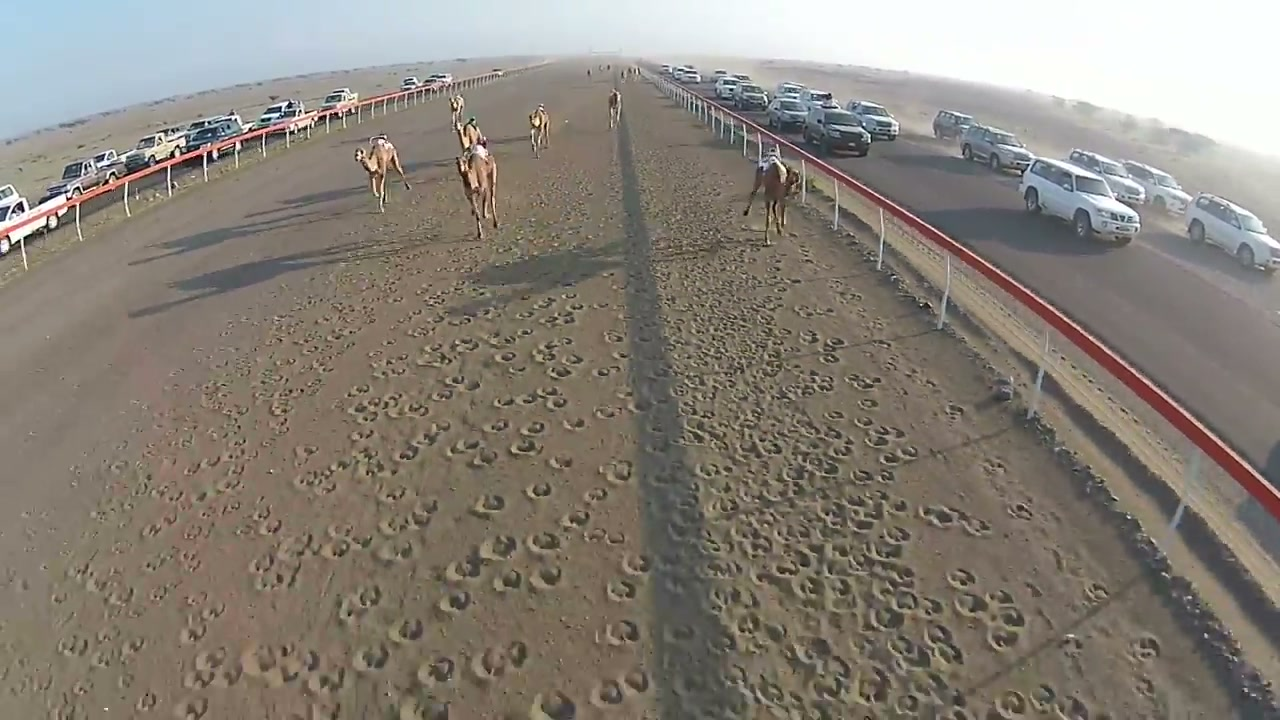animal_footprint: (3, 95, 1231, 719), (652, 243, 1146, 716), (664, 287, 1024, 666), (392, 296, 650, 636), (331, 356, 646, 634), (50, 531, 239, 711), (820, 525, 964, 668), (49, 548, 198, 616), (958, 683, 1119, 719), (248, 535, 319, 592), (238, 643, 323, 687), (483, 417, 564, 457), (468, 640, 530, 683), (183, 439, 253, 476), (183, 647, 243, 690), (589, 667, 651, 708), (984, 593, 1027, 652), (277, 680, 342, 719), (293, 457, 356, 496), (194, 465, 243, 515), (919, 505, 992, 537), (915, 622, 964, 667), (316, 525, 373, 560), (852, 662, 894, 709), (336, 584, 382, 626), (391, 688, 452, 719), (347, 393, 404, 425), (446, 437, 500, 469), (528, 690, 577, 719), (415, 655, 458, 688), (374, 537, 420, 567), (887, 688, 936, 716), (351, 641, 391, 675), (1053, 693, 1109, 717), (409, 419, 452, 448), (663, 508, 698, 542), (599, 619, 643, 646), (477, 533, 519, 561), (88, 636, 123, 669), (436, 589, 474, 619), (139, 510, 178, 539), (387, 617, 427, 645), (445, 556, 483, 585), (741, 433, 783, 459), (527, 563, 564, 592), (919, 505, 963, 528), (616, 389, 658, 413), (406, 497, 438, 528), (471, 493, 507, 519), (591, 679, 624, 707), (526, 531, 564, 555), (865, 426, 906, 448), (388, 398, 430, 419), (1027, 683, 1057, 712), (375, 483, 411, 507), (582, 527, 627, 546), (492, 568, 527, 592), (445, 436, 487, 456), (1129, 635, 1160, 662), (172, 696, 208, 719), (693, 462, 734, 482), (879, 446, 917, 467), (600, 460, 632, 484), (821, 337, 849, 364), (178, 618, 207, 644), (849, 468, 896, 484), (945, 567, 976, 591), (844, 373, 883, 392), (559, 509, 591, 532), (621, 553, 653, 576), (606, 579, 638, 602), (56, 634, 89, 656), (508, 437, 543, 456), (442, 375, 481, 392), (119, 635, 146, 659), (791, 304, 833, 318), (1084, 581, 1110, 603), (519, 420, 548, 439), (257, 515, 283, 536), (450, 336, 480, 354), (1006, 501, 1034, 520), (1134, 674, 1157, 697), (134, 691, 158, 712), (525, 482, 553, 500), (268, 398, 293, 418), (269, 412, 290, 435), (981, 457, 1006, 476), (492, 395, 527, 408), (592, 363, 622, 378), (546, 364, 574, 380), (944, 402, 966, 420), (492, 350, 520, 364), (483, 418, 509, 433), (593, 405, 620, 419), (562, 417, 587, 431), (346, 383, 371, 397), (852, 415, 874, 428), (604, 330, 625, 343)
